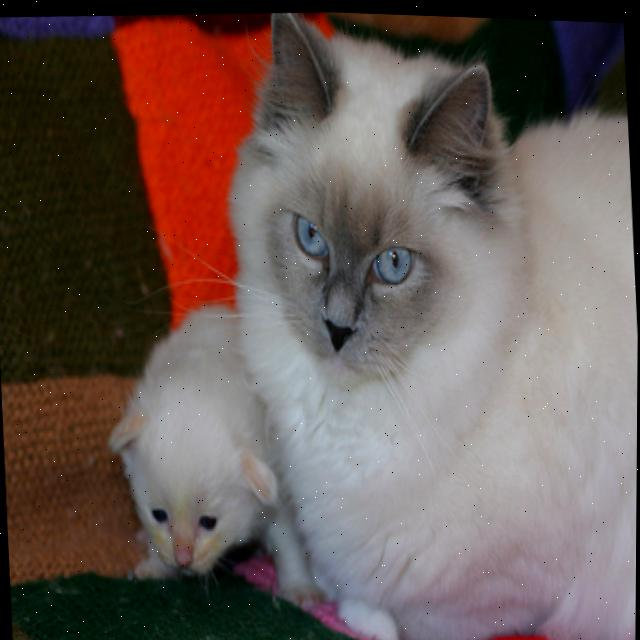Ragdoll: (214, 6, 640, 640), (98, 285, 319, 612)
